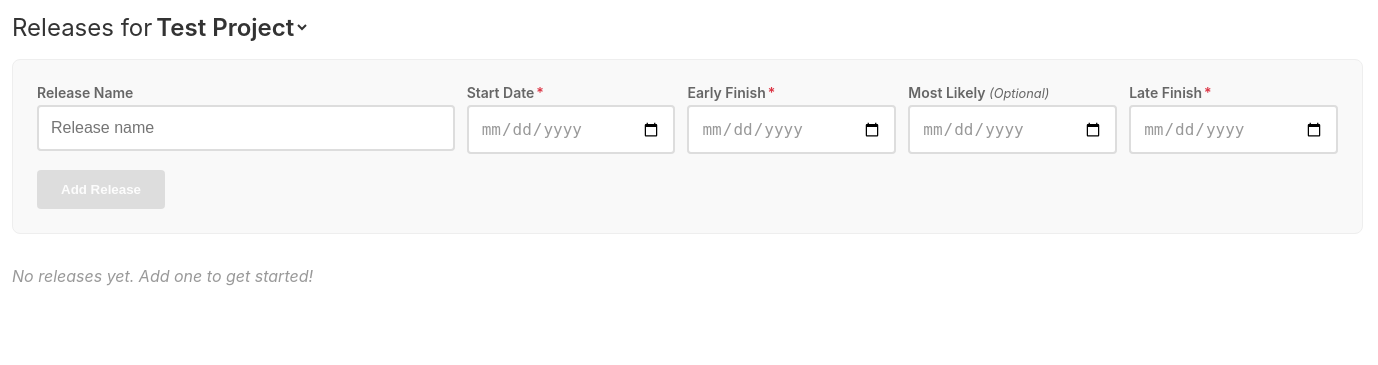
Test case: ReleasesTab › add release form › adds release when all fields are valid
Type "Sprint 1" into the field with placeholder "Release Name" at coordinates (246, 128), box [37,105,455,151]
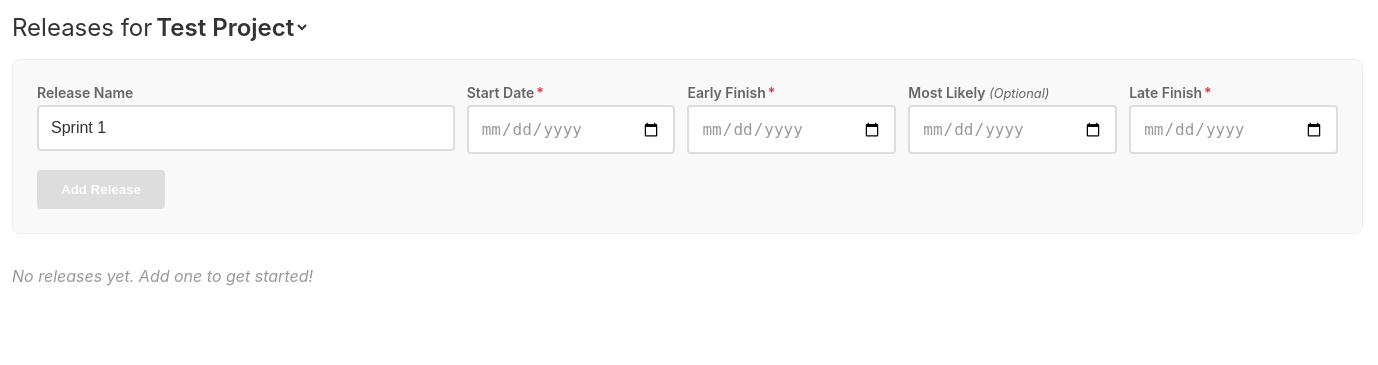
Type "2026-01-01" into the date field labelled "Start Date*" at coordinates (571, 130), box [467,105,676,154]
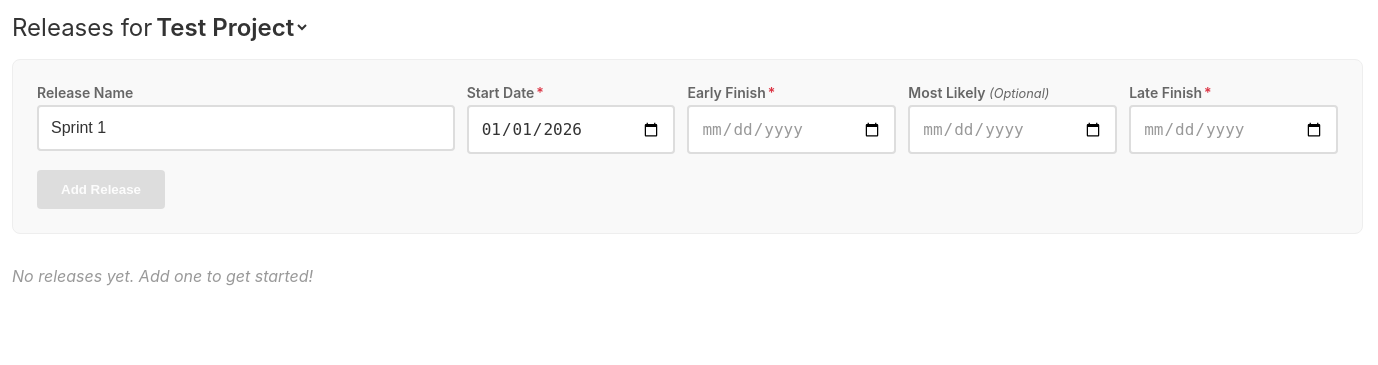
Type "2026-03-01" into the date field labelled "Early Finish*" at coordinates (792, 130), box [688,105,896,154]
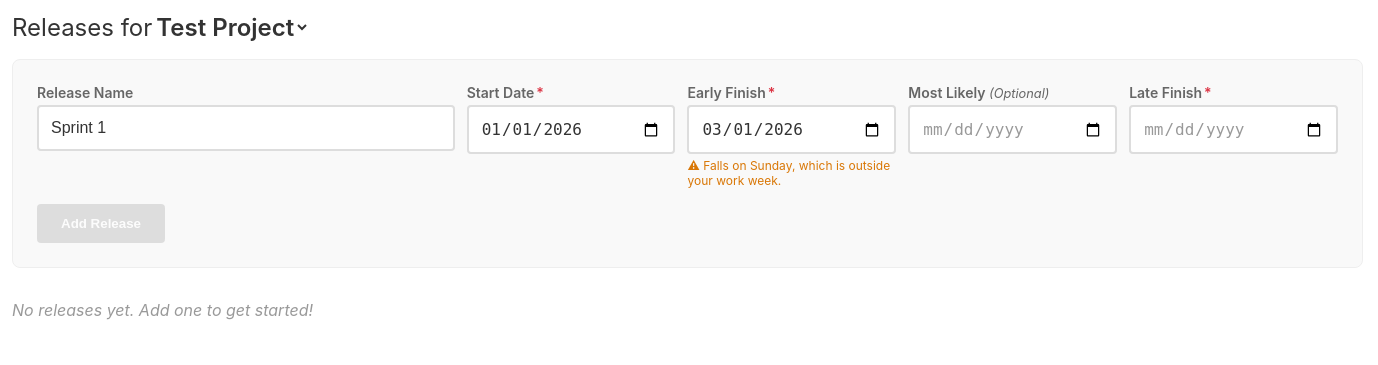
Type "2026-06-01" into the date field labelled "Late Finish*" at coordinates (1234, 130), box [1129,105,1338,154]
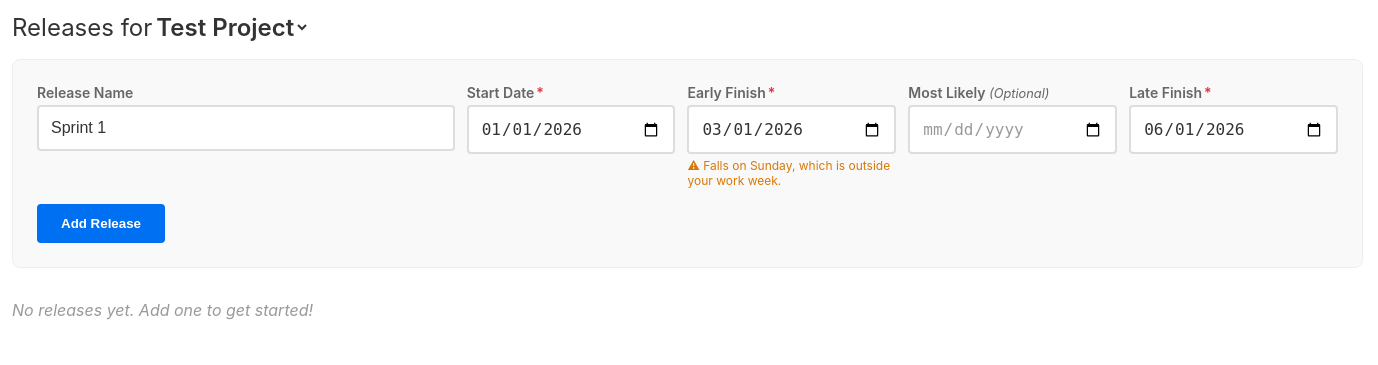
Click the button "Add Release" at coordinates (101, 224), box [37,204,165,243]
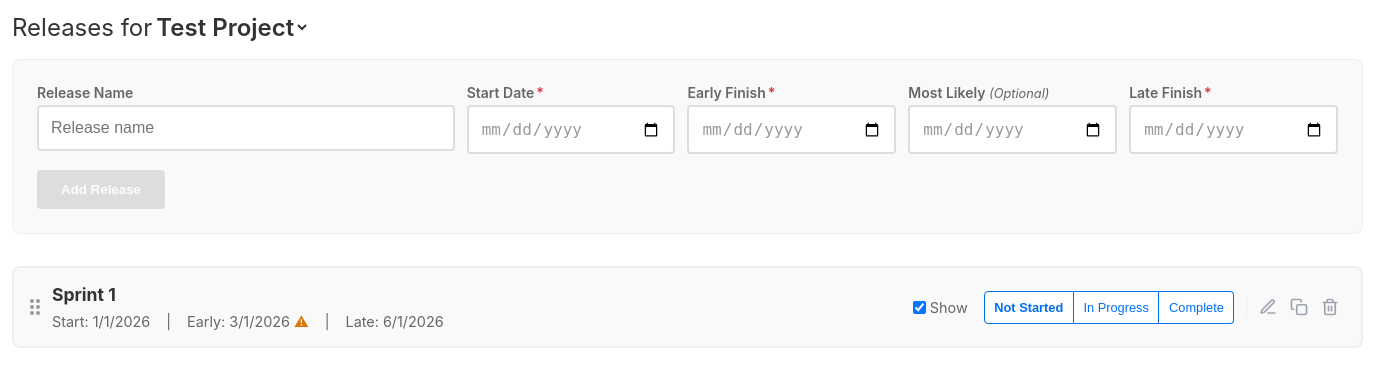
Result: the text "Sprint 1" is shown at [52,284,116,305]
